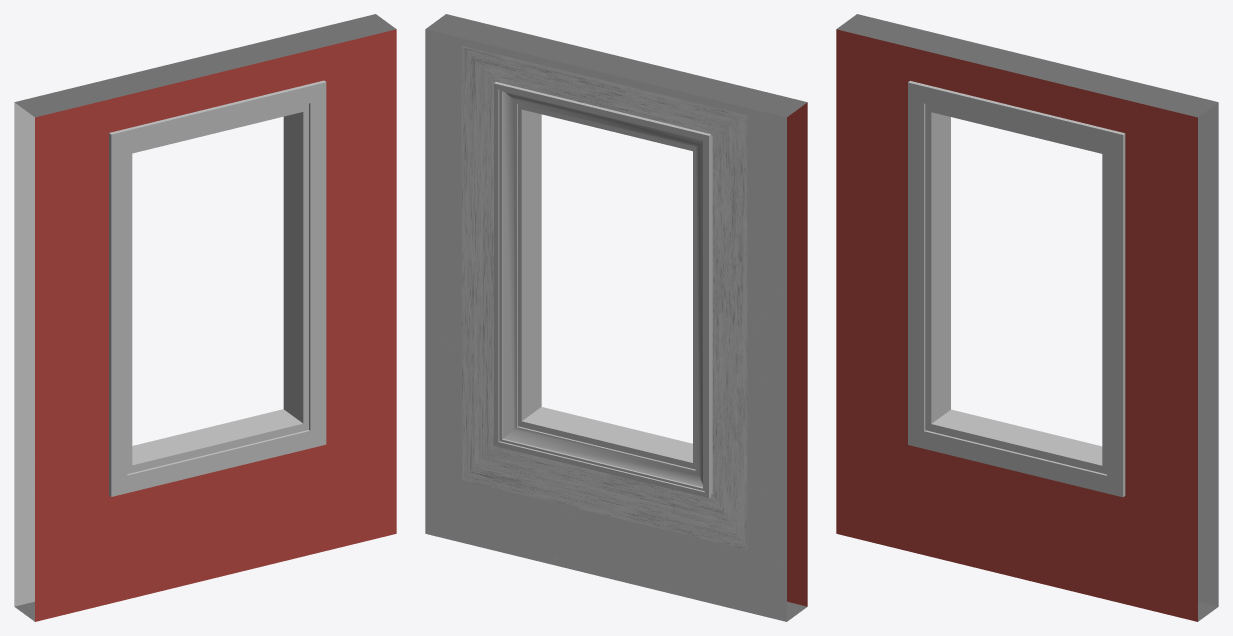
The model's file is SM_BuildingFacade_Window_400x250uu_Big_A1.fbx.
The picture shows the model from 3 angles, left to right: view 1: azimuth 30°, elevation 25°; view 2: azimuth 150°, elevation 25°; view 3: azimuth 330°, elevation 25°; orthographic projection.
Parts seen in each view (by area): view 1: SM_BuildingFacade_Window_400x250uu_Big; view 2: SM_BuildingFacade_Window_400x250uu_Big; view 3: SM_BuildingFacade_Window_400x250uu_Big.
Part boxes in pixels (x1,y1,x2,y2): SM_BuildingFacade_Window_400x250uu_Big: [14, 14, 396, 621]; SM_BuildingFacade_Window_400x250uu_Big: [425, 14, 807, 621]; SM_BuildingFacade_Window_400x250uu_Big: [836, 14, 1218, 621].
Size of the model in its own units: 300 by 400 by 38.9.
